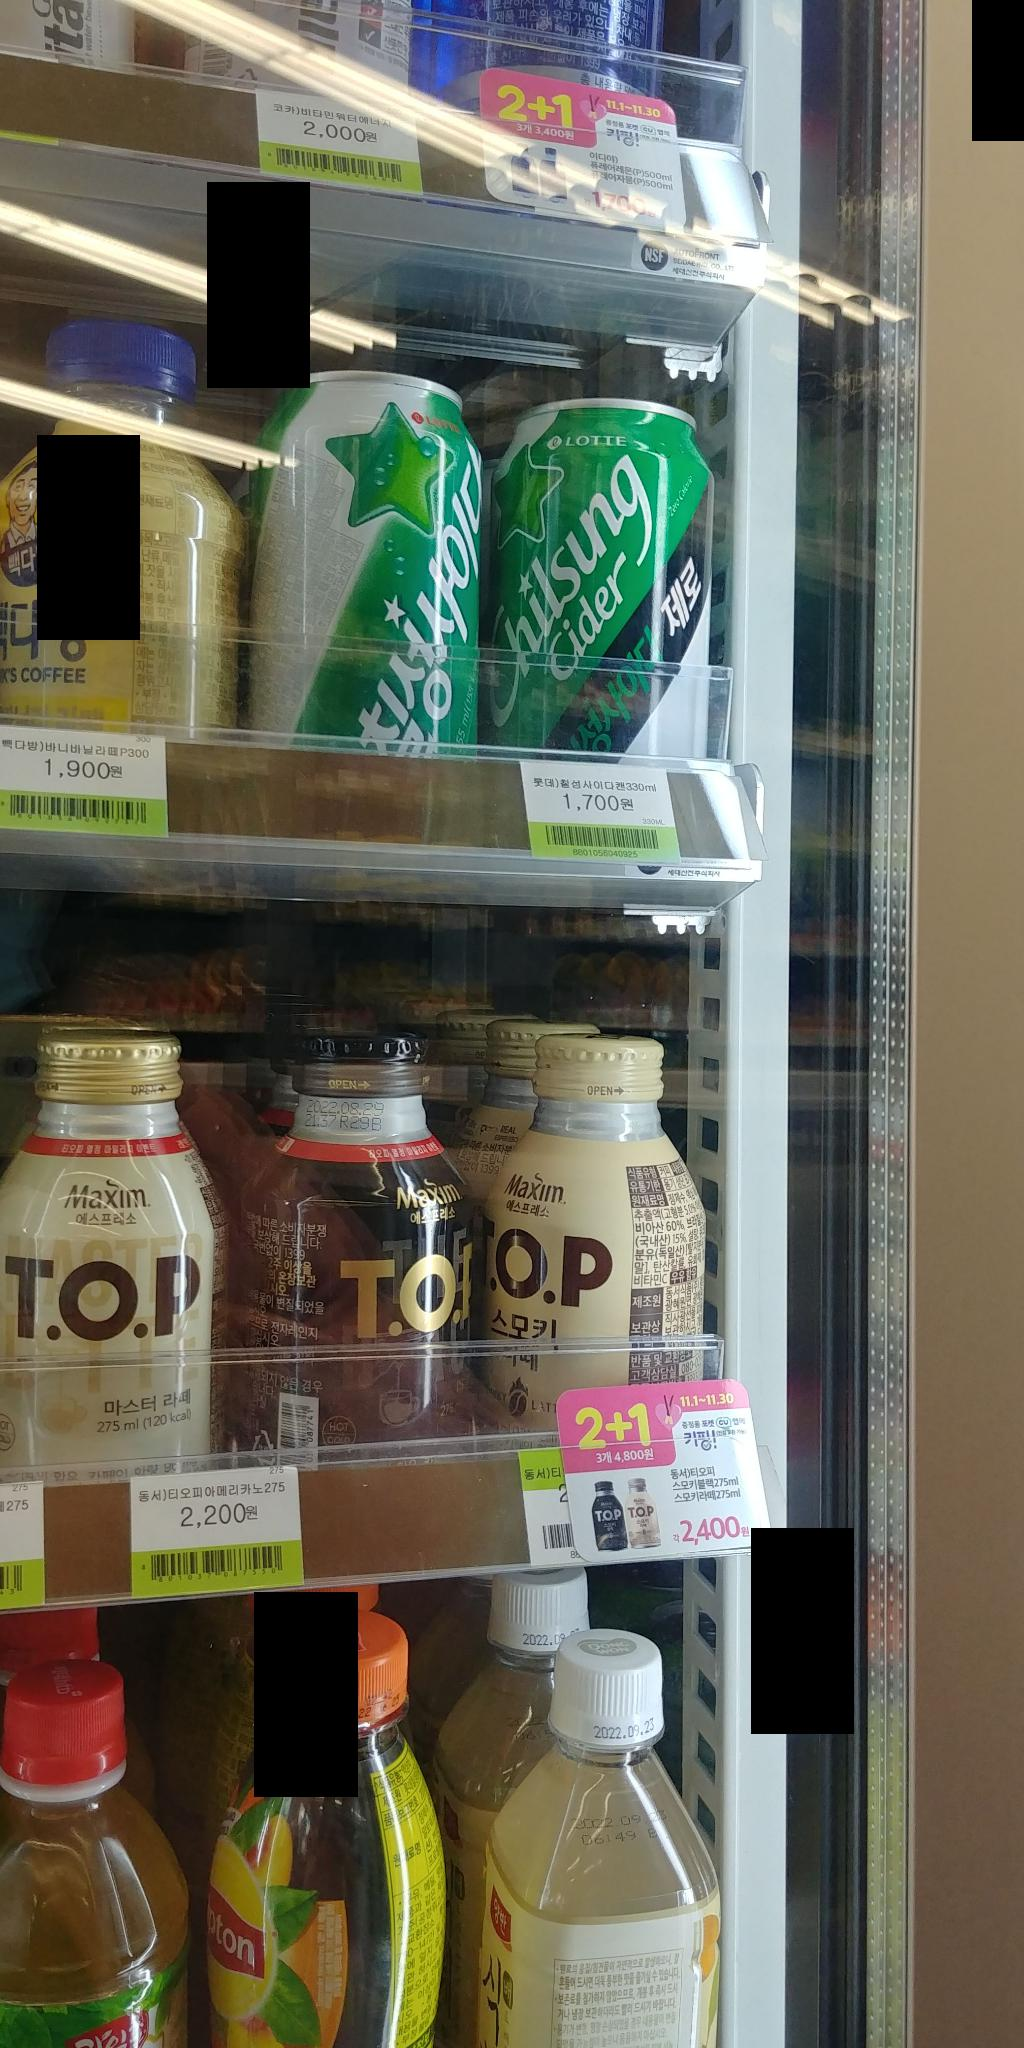TOP_black: (227, 989, 504, 1471)
chilsungcider: (236, 364, 485, 824)
